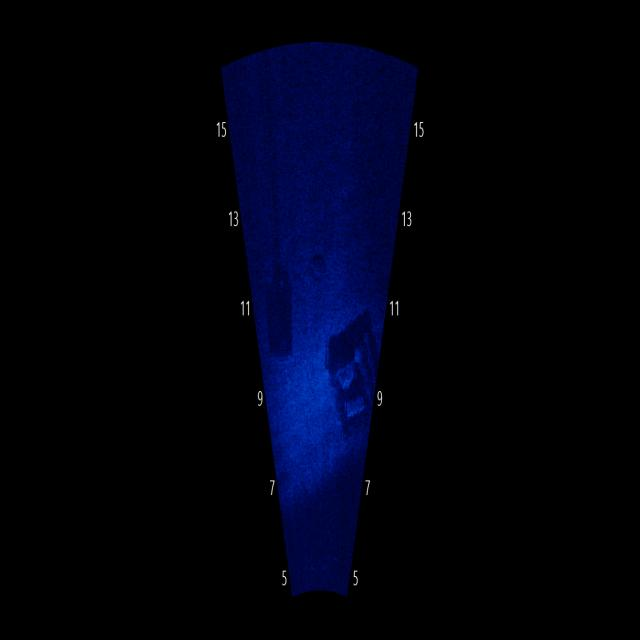square: (313, 314, 398, 451), (258, 251, 303, 369)
